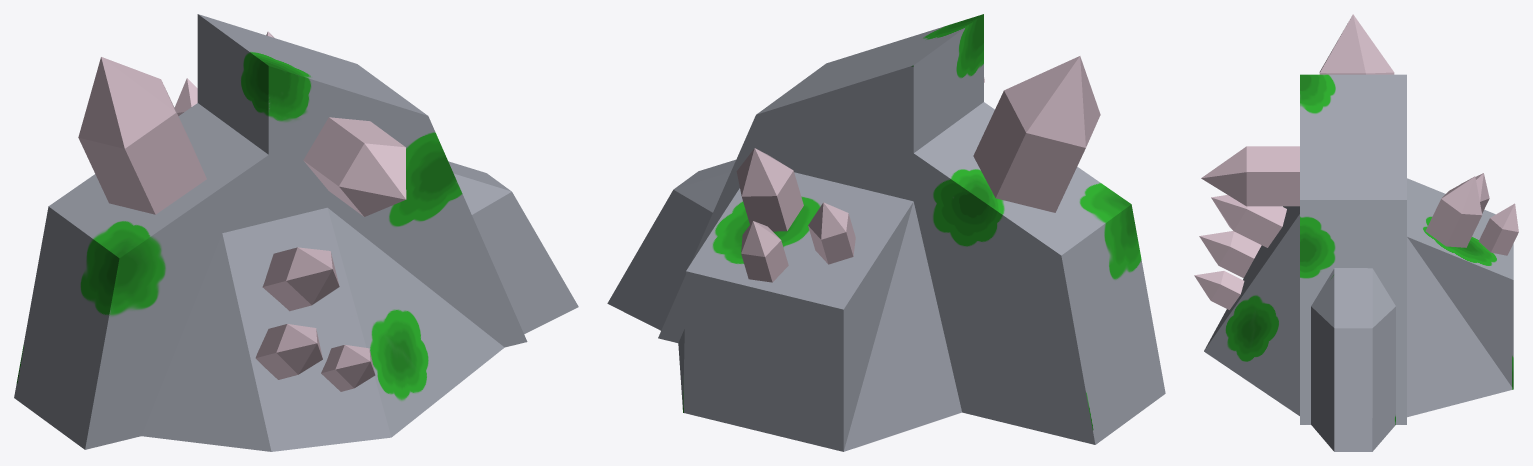
Rendered from CuarzoMusgoTipo2.fbx.
3 renders of one model, left to right at view 1: azimuth 30°, elevation 25°; view 2: azimuth 150°, elevation 25°; view 3: azimuth 270°, elevation 25°, orthographic. The views are drawn at different scales.
Parts seen in each view (by area): view 1: base.046, cuarzo.026, cuarzo.019, cuarzo.022, cuarzo.020, cuarzo.021; view 2: base.046, cuarzo.026, cuarzo.025, cuarzo.023, cuarzo.024; view 3: base.046, cuarzo.019, cuarzo.025, cuarzo.026, cuarzo.022, cuarzo.020, cuarzo.023, cuarzo.021, cuarzo.024.
Part boxes in pixels (box(x1,y1,x2,y2)): base.046: box(14, 14, 578, 451); cuarzo.026: box(78, 57, 206, 214); cuarzo.019: box(303, 117, 406, 216); cuarzo.022: box(262, 247, 339, 311); cuarzo.020: box(255, 324, 322, 379); cuarzo.021: box(321, 345, 375, 391); base.046: box(607, 14, 1165, 451); cuarzo.026: box(973, 56, 1100, 212); cuarzo.025: box(736, 148, 803, 231); cuarzo.023: box(741, 221, 788, 282); cuarzo.024: box(808, 202, 855, 264); base.046: box(1204, 74, 1513, 451); cuarzo.019: box(1201, 146, 1299, 206); cuarzo.025: box(1425, 176, 1482, 247); cuarzo.026: box(1319, 14, 1394, 74); cuarzo.022: box(1211, 195, 1286, 247); cuarzo.020: box(1199, 231, 1261, 277); cuarzo.023: box(1478, 203, 1518, 255); cuarzo.021: box(1194, 271, 1244, 309); cuarzo.024: box(1461, 173, 1489, 213).
Bounding box in the file's own units: 140 × 91.99 × 101.
